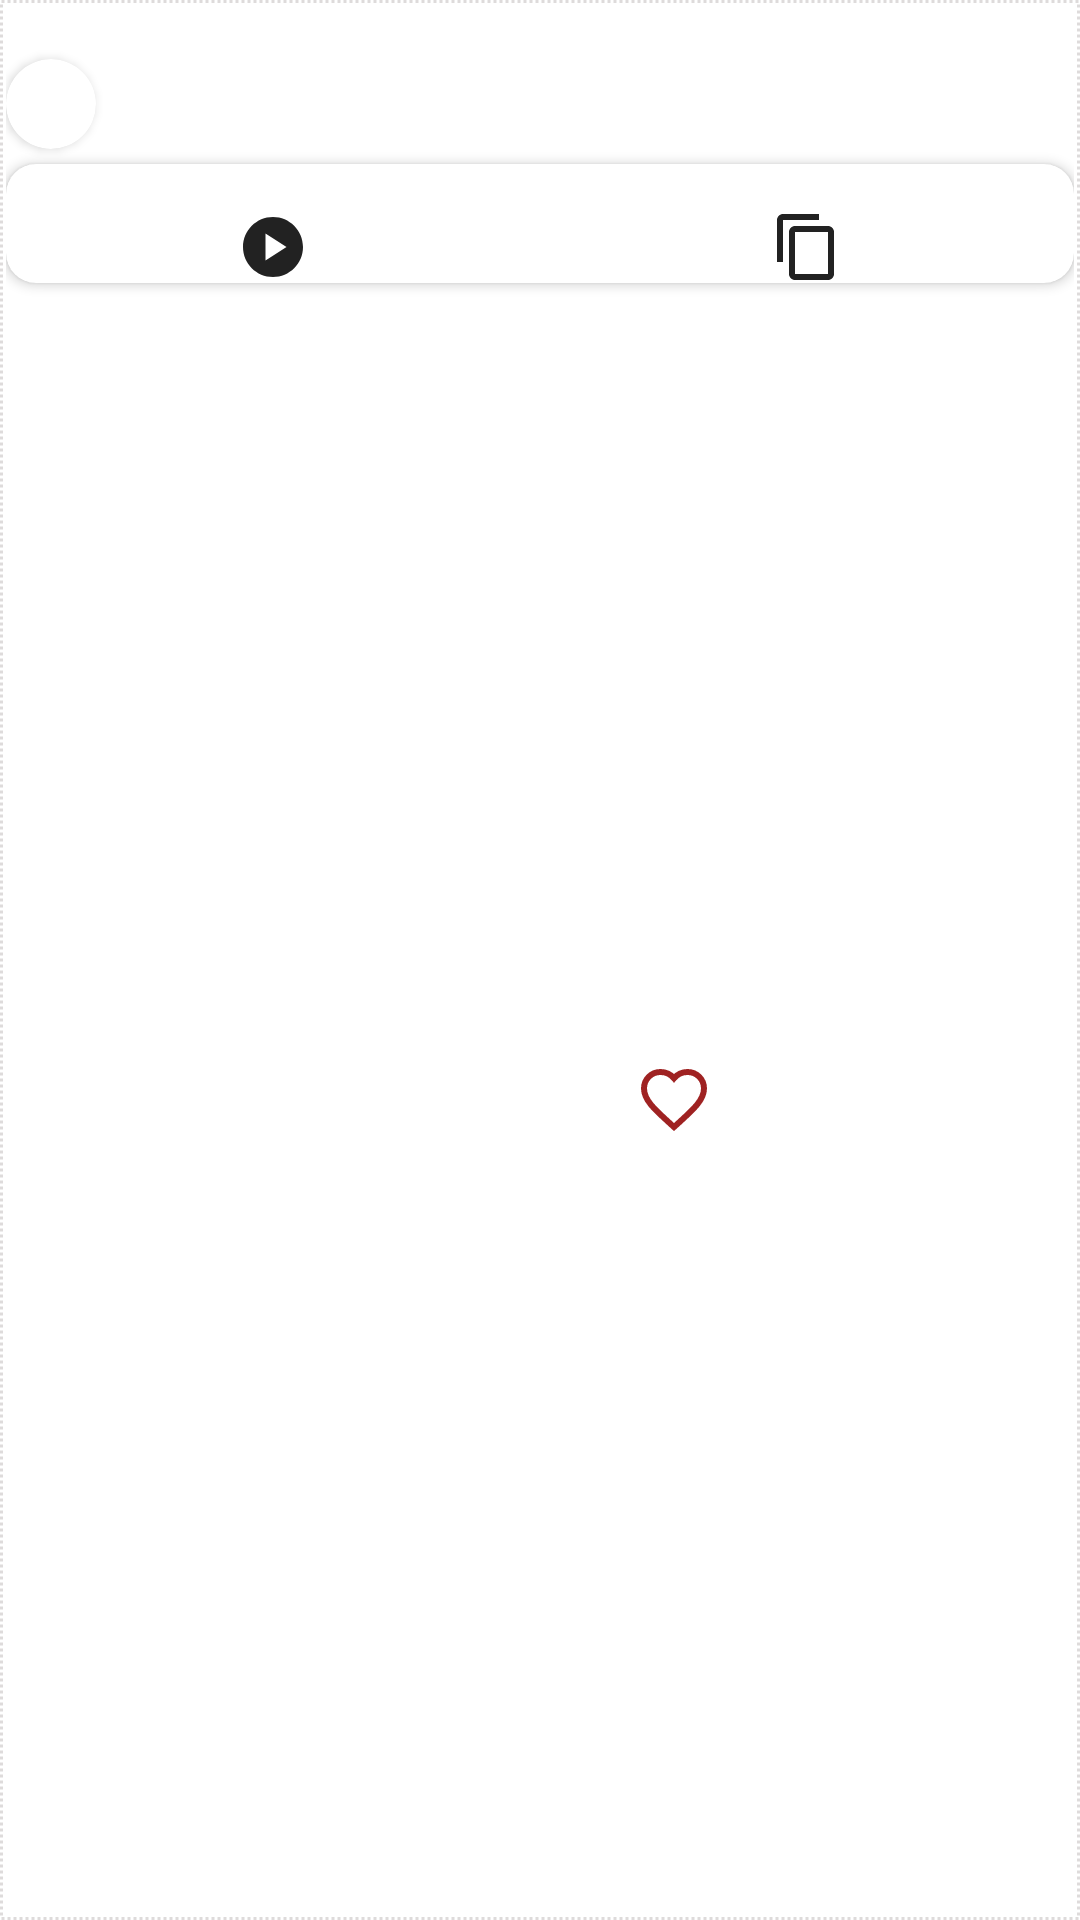

Point at icon controls on the screen. Image size 1080×1920, points as [x,y].
Copiar Link: [805,247]
Dar Like al Contenido: [674,1100]
Reproducir Contenido: [273,247]
